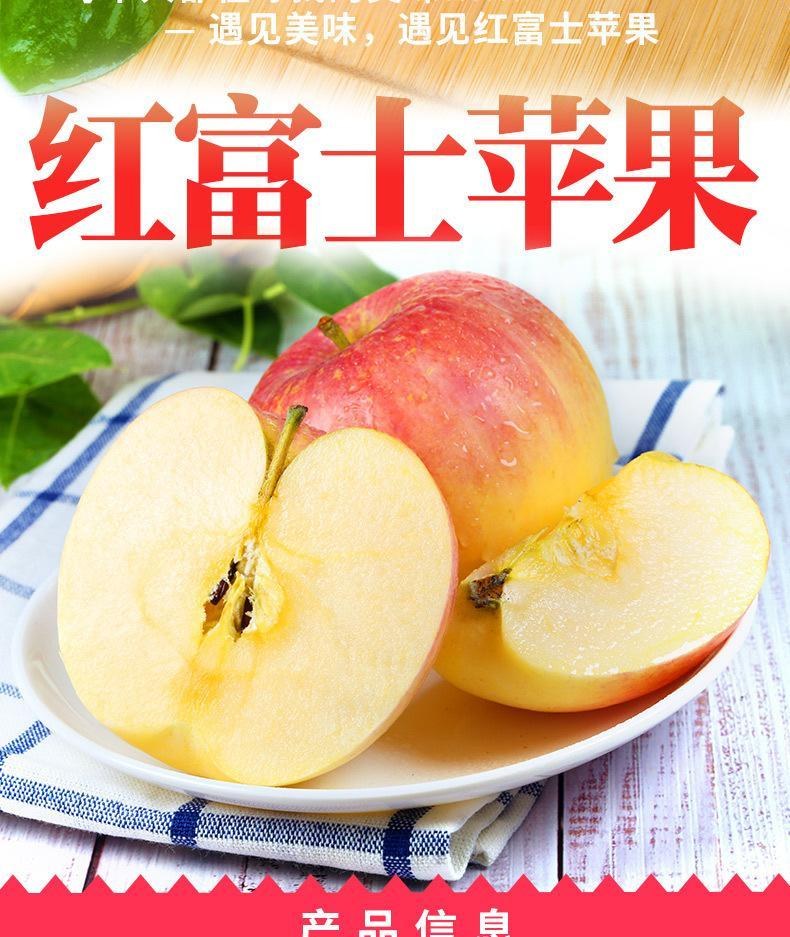apple: (246, 271, 618, 570)
